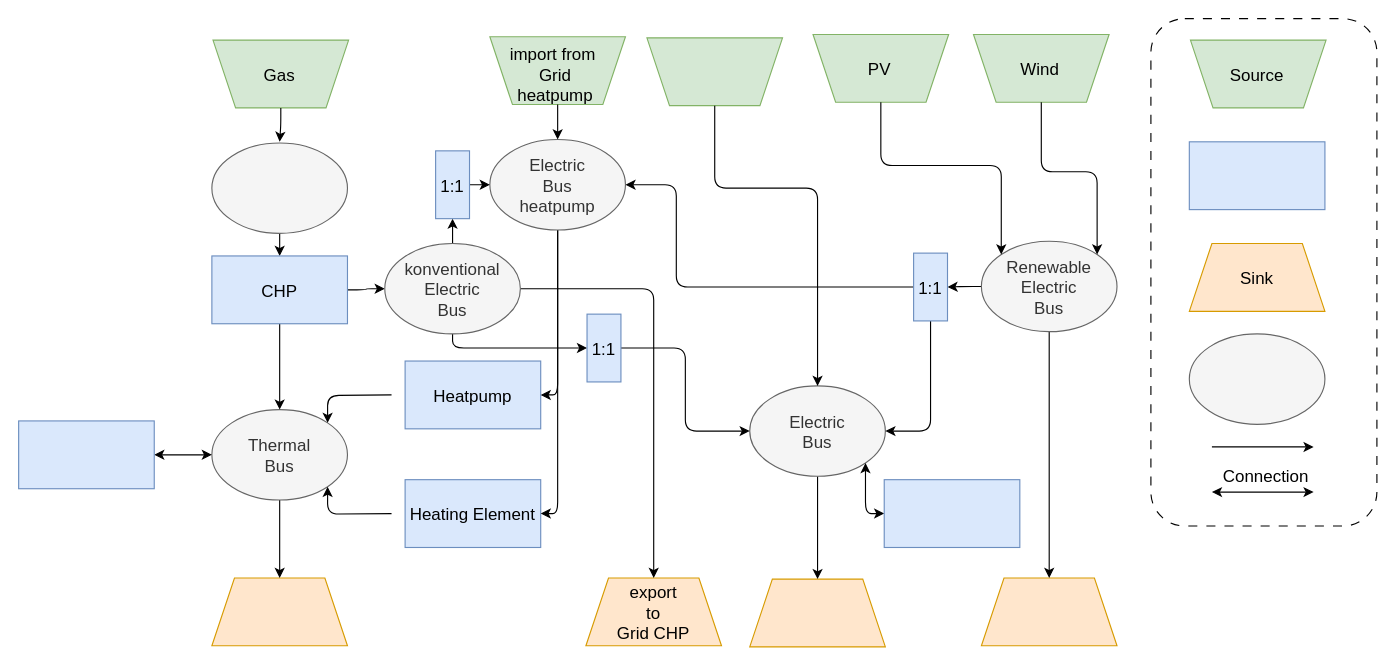
The diagram is 1396 pixels wide and 666 high, and some of its shapes have lost their labels. The centre of each missing label's shape, as x and y in pixels:
"Battery Storage" goes at pixel 951 513.
"Bus" goes at pixel 1256 378.
"Converter" goes at pixel 1256 175.
"Electric Demand" goes at pixel 817 612.
"export to Grid" goes at pixel 1048 611.
"Gas Bus" goes at pixel 279 187.
"Heat Demand" goes at pixel 279 611.
"import from Grid" goes at pixel 714 71.
"Seasonal Storage" goes at pixel 86 454.
